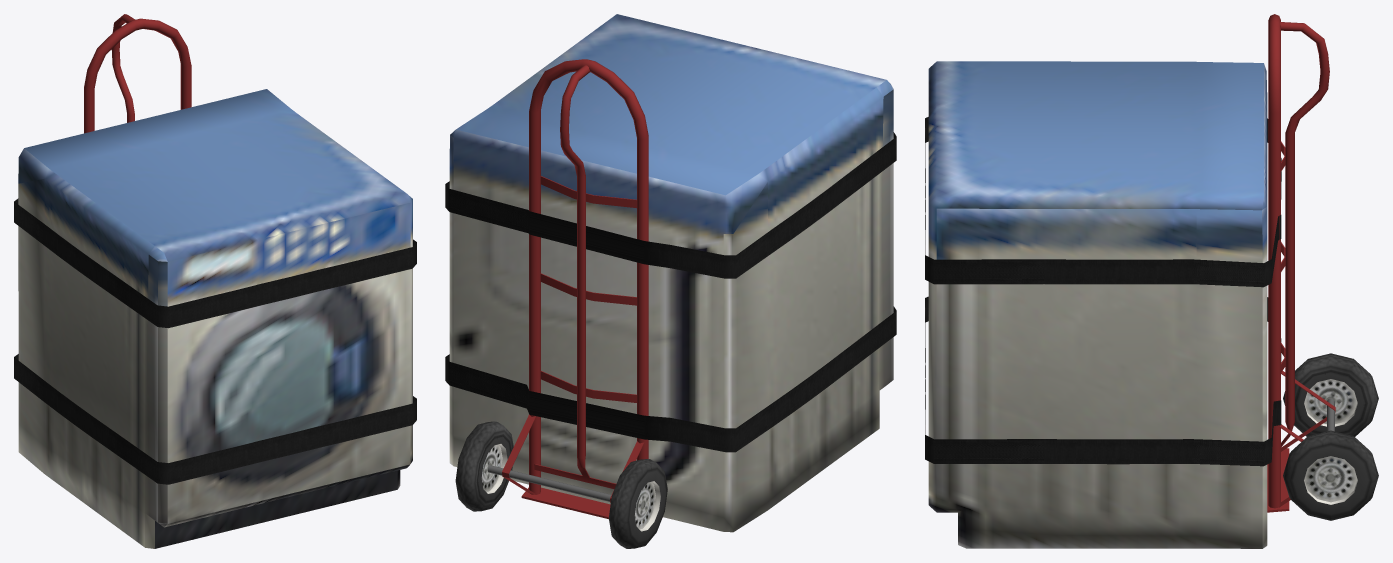
File: PA_ComboWD.fbx
3 renders of one model, left to right at view 1: azimuth 30°, elevation 25°; view 2: azimuth 150°, elevation 25°; view 3: azimuth 270°, elevation 25°, orthographic. The views are drawn at different scales.
Visible parts, largest first — view 1: Combo; view 2: Combo; view 3: Combo.
Boxes of the visible parts, x1,y1,x2,y2 form: Combo: [14, 14, 416, 548]; Combo: [445, 14, 896, 548]; Combo: [925, 14, 1378, 548].
Size of the model in its own units: 0.5451 by 0.7922 by 0.7058.
